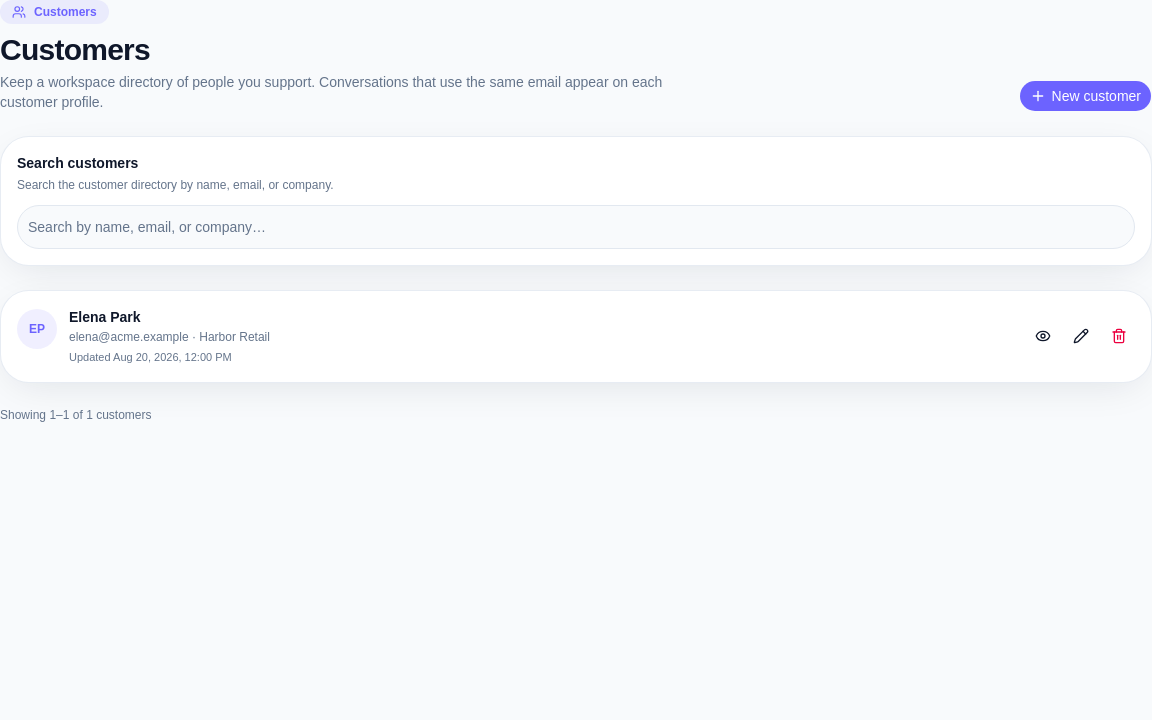
CustomersBoard › populates the edit form and saves changes
Click the button named "Edit Elena Park". click: (1081, 336)
box: [1065,320,1097,352]
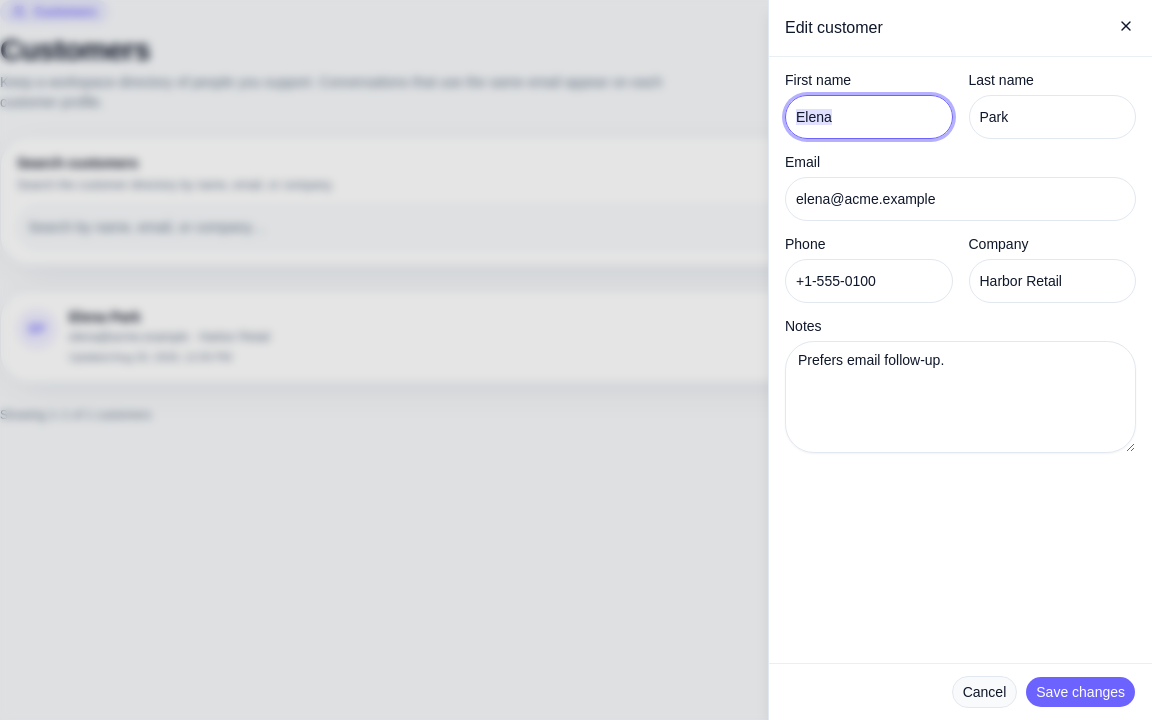
Check: the heading "Edit customer" is shown, box [785,19,883,36]
Check: the field labelled "First name" holds "Elena", box [785,95,952,139]
Check: the field labelled "Email" holds "elena@acme.example", box [785,177,1136,221]
Replace the text in the field labelled "Phone" with "+1-555-0199". click: (869, 281)
box: [785,259,952,303]
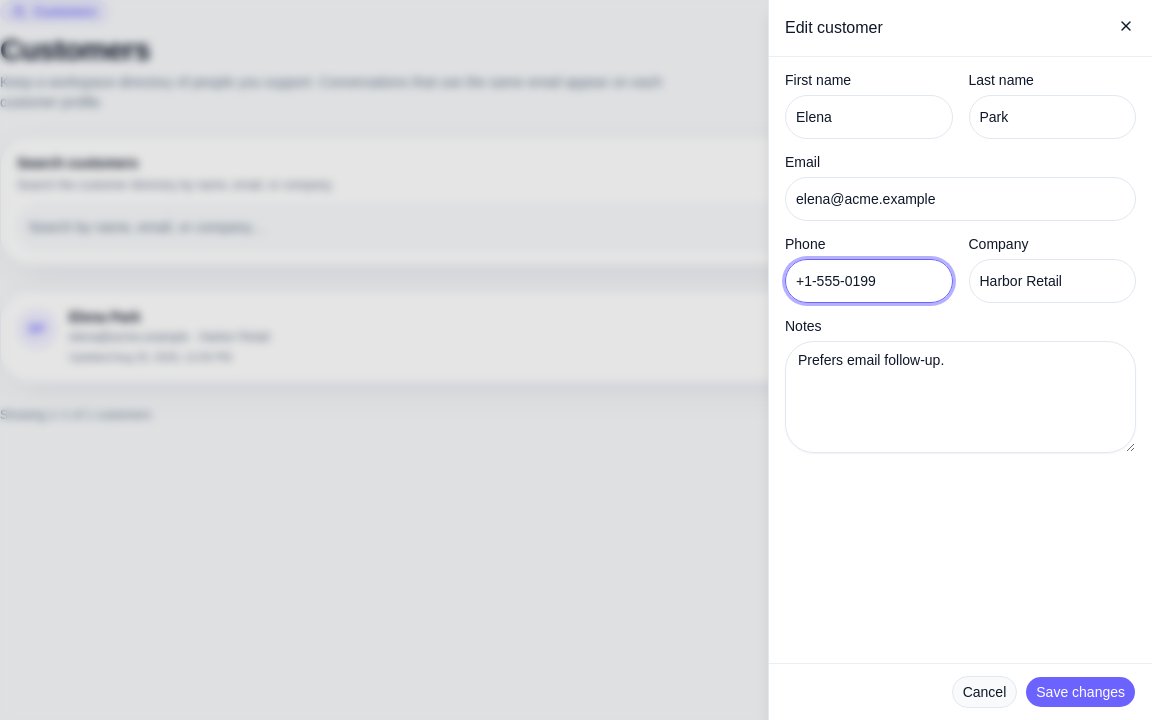
Replace the text in the text box labelled "Notes" with "VIP". click: (960, 397)
box: [785,341,1136,453]
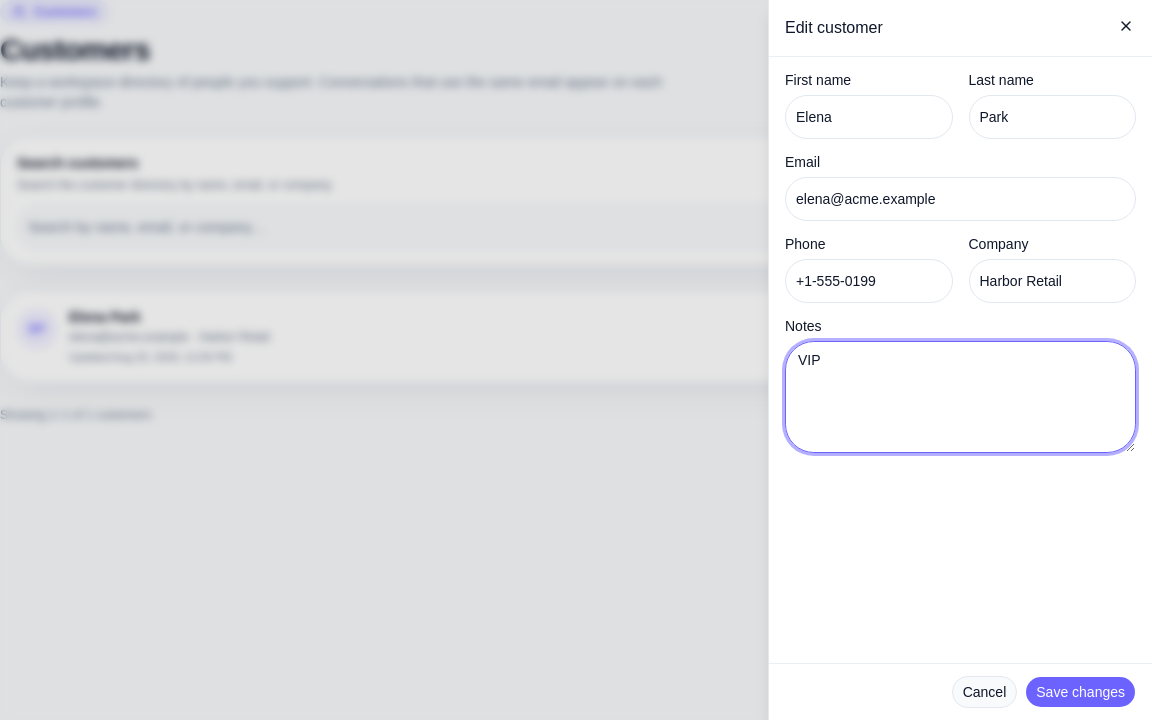
Click the button "Save changes". click: (1081, 692)
box: [1025,676,1136,708]
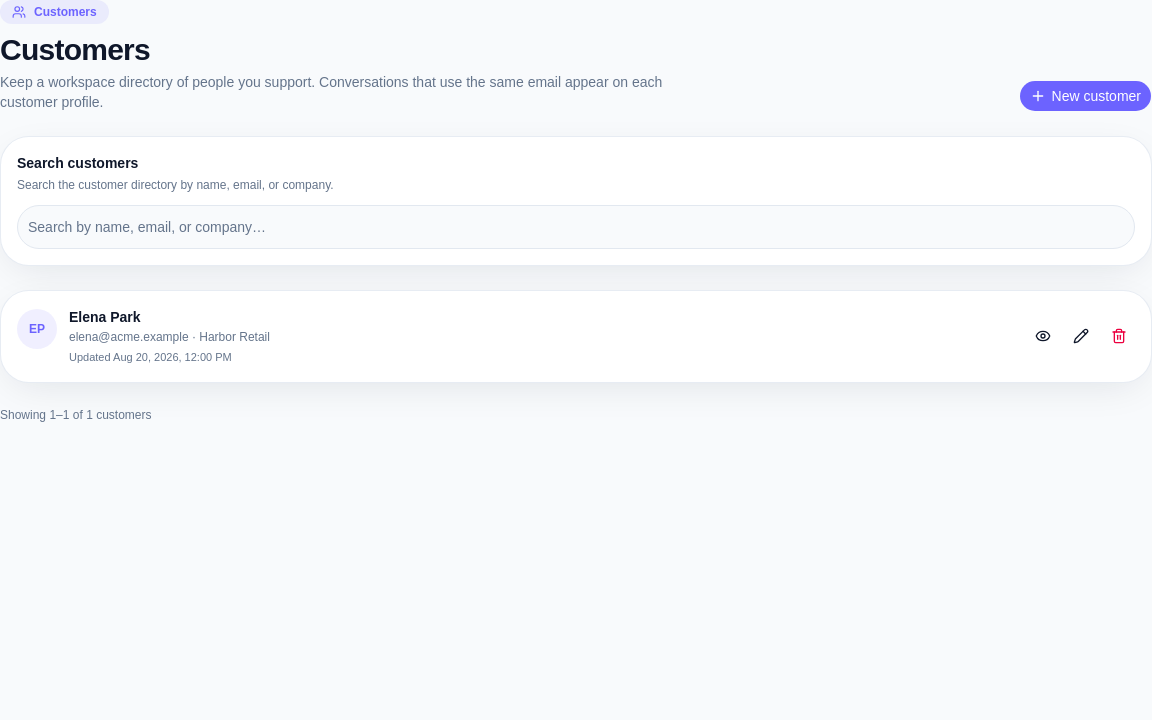
Check: the heading "Edit customer" is gone
